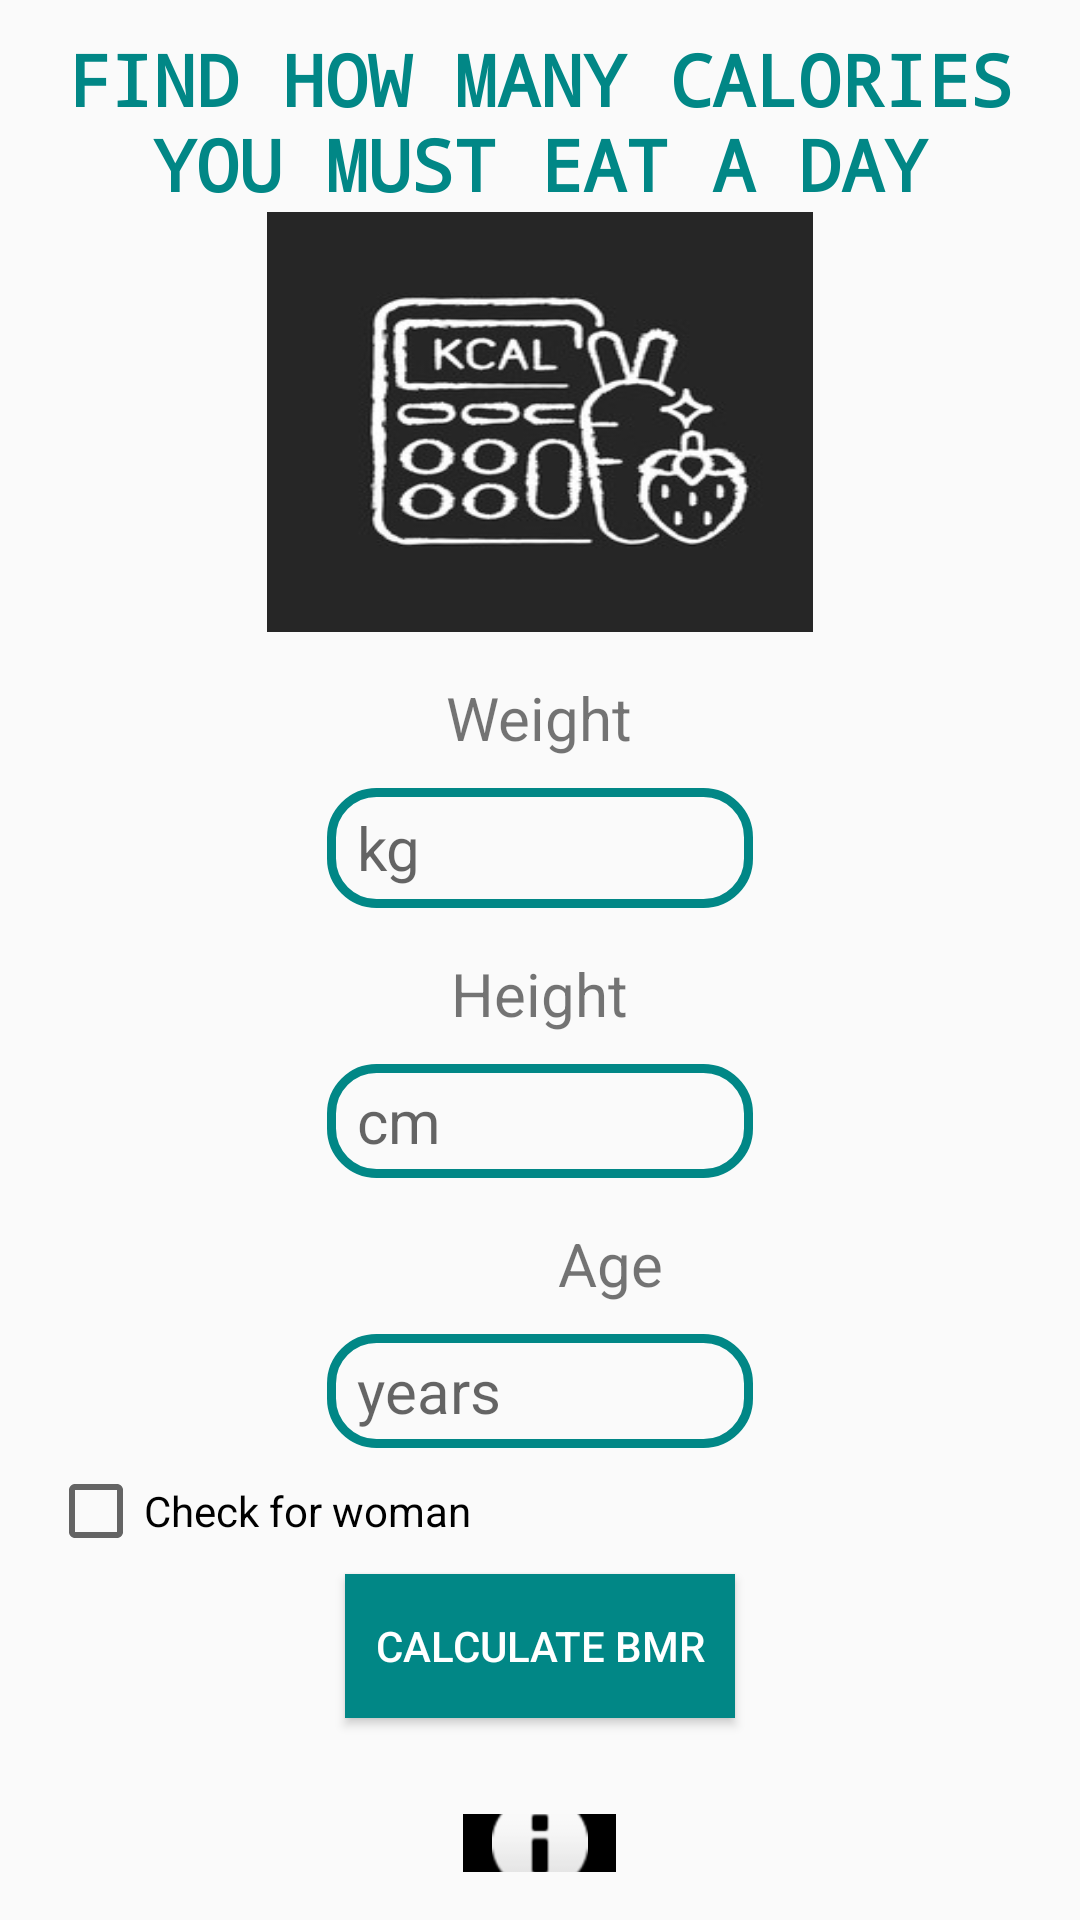

Icons on this 1080x1920 Android screen, each with its box as (x1, y1, x2, y2):
info: (463, 1814, 616, 1872)
